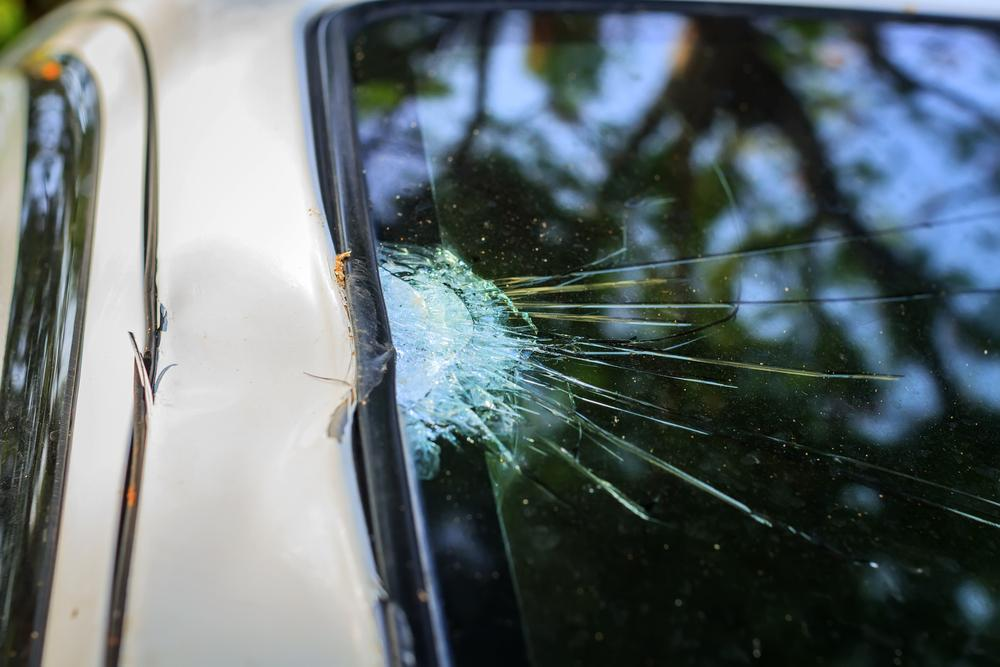dent: (140, 239, 381, 667)
glass shatter: (349, 0, 1000, 667)
